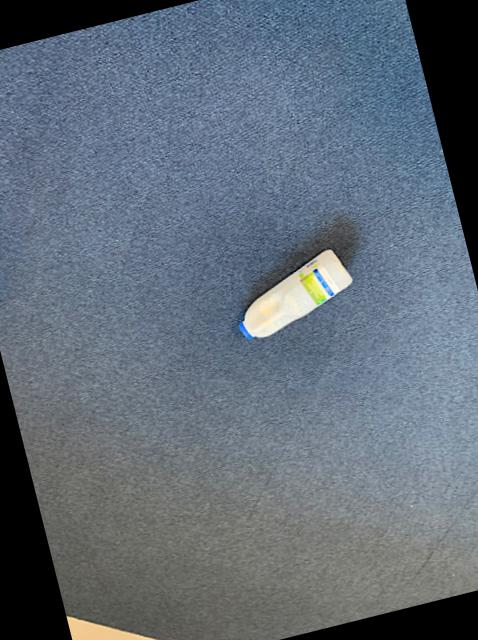plastic: (241, 251, 354, 339)
